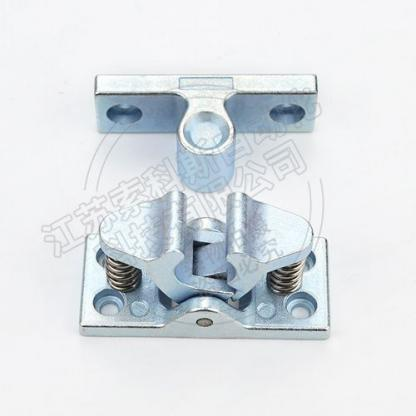FOD: (264, 254, 306, 298), (103, 250, 145, 290)
